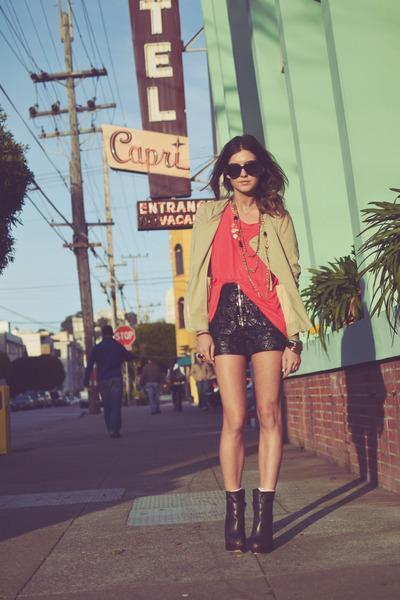jacket: (180, 199, 310, 329)
shirt: (206, 204, 286, 335)
shoe: (223, 489, 275, 553)
shorts: (204, 283, 290, 371)
